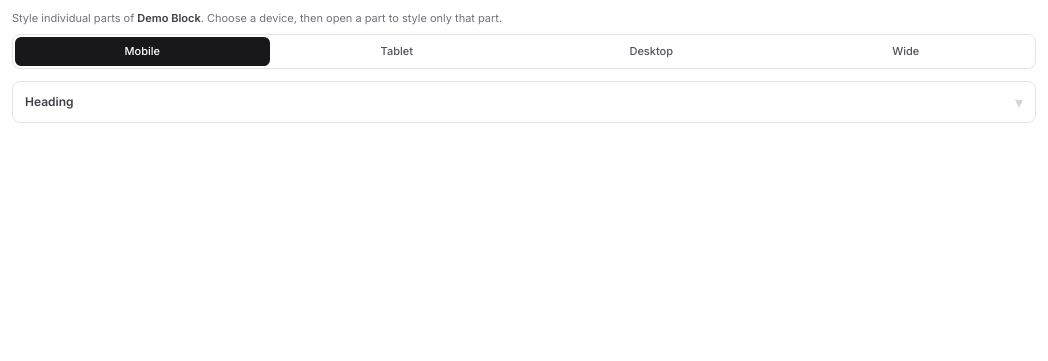
Scenario: ElementStyleTab › shows the stored value for the active device
Click the button "Desktop".
click(651, 51)  # box [524,37,778,66]
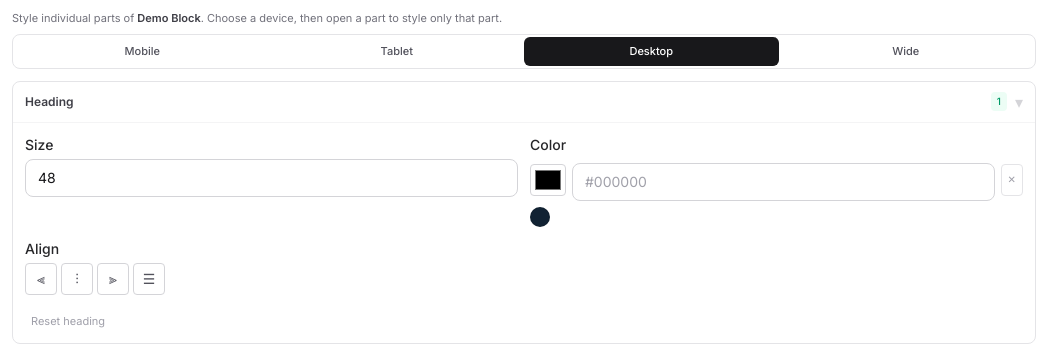
Result: the number field holds "48" at [25,159,518,197]
